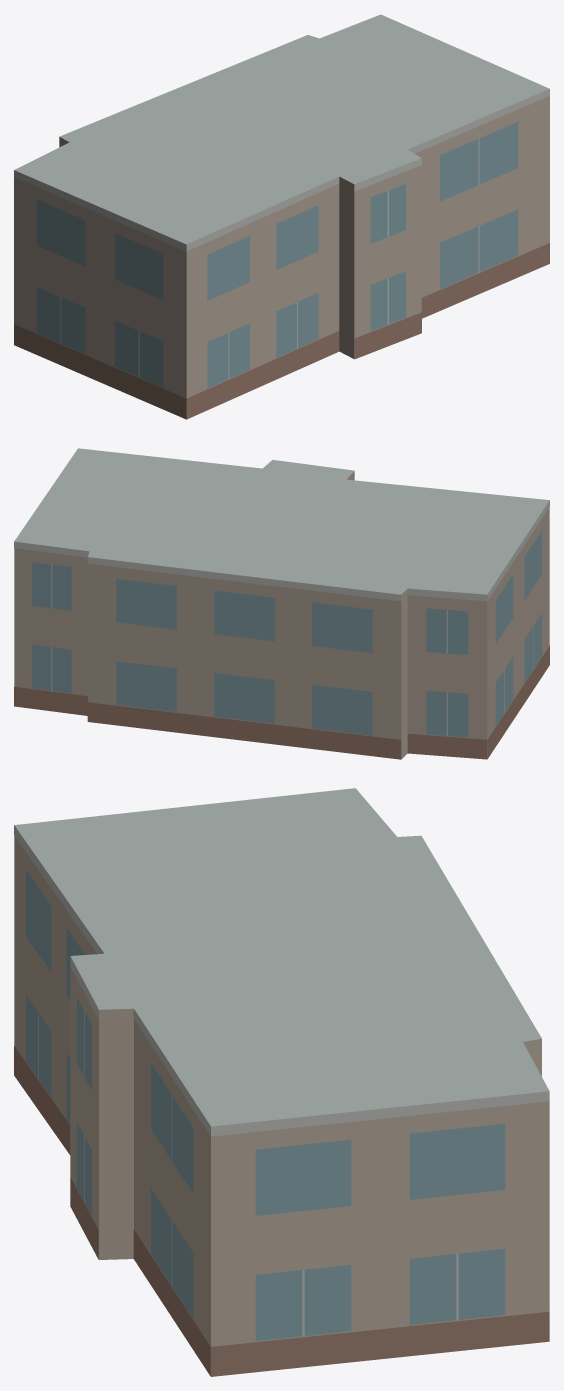
The model's file is survey-upis-32616398.glb.
3 views of the same model, one above another, from view 1: azimuth 30°, elevation 25°; view 2: azimuth 150°, elevation 25°; view 3: azimuth 270°, elevation 25° (orthographic). The views are drawn at different scales.
Parts seen in each view (by area): view 1: survey-upis-32616398.tmp; view 2: survey-upis-32616398.tmp; view 3: survey-upis-32616398.tmp.
Boxes of the visible parts, x1,y1,x2,y2 form: survey-upis-32616398.tmp: (14,14,549,419); survey-upis-32616398.tmp: (14,448,549,759); survey-upis-32616398.tmp: (14,788,549,1376).
Bounding box in the file's own units: 17.71 × 6.1 × 11.84.
